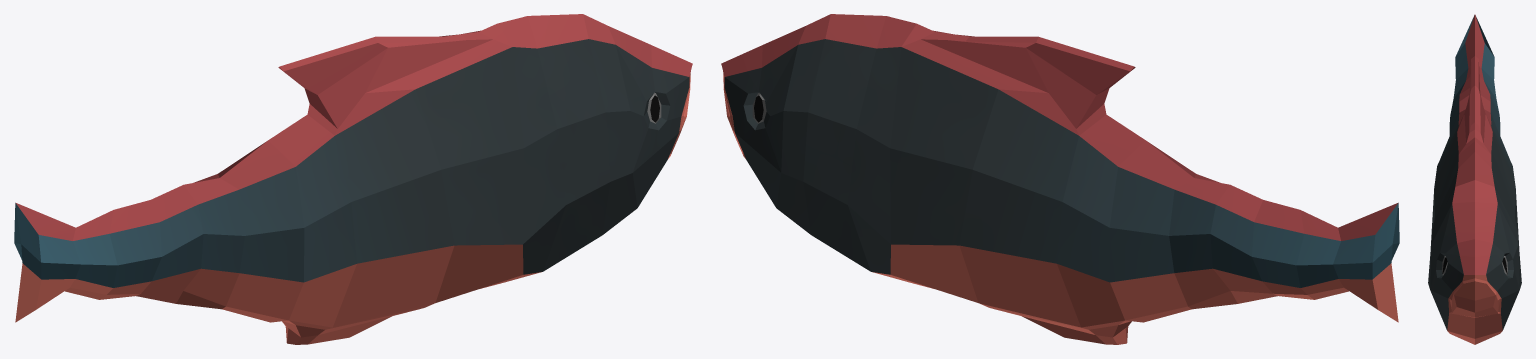
Rendered from FishV2.fbx.
3 views of the same model, side by side, from view 1: azimuth 30°, elevation 25°; view 2: azimuth 150°, elevation 25°; view 3: azimuth 270°, elevation 25° (orthographic). The views are drawn at different scales.
Visible parts, largest first — view 1: FishV2; view 2: FishV2; view 3: FishV2.
Part boxes in pixels (x1,y1,x2,y2): FishV2: (14, 14, 692, 344); FishV2: (721, 14, 1399, 344); FishV2: (1428, 14, 1521, 344).
Size of the model in its own units: 84.31 by 34.49 by 13.84.
